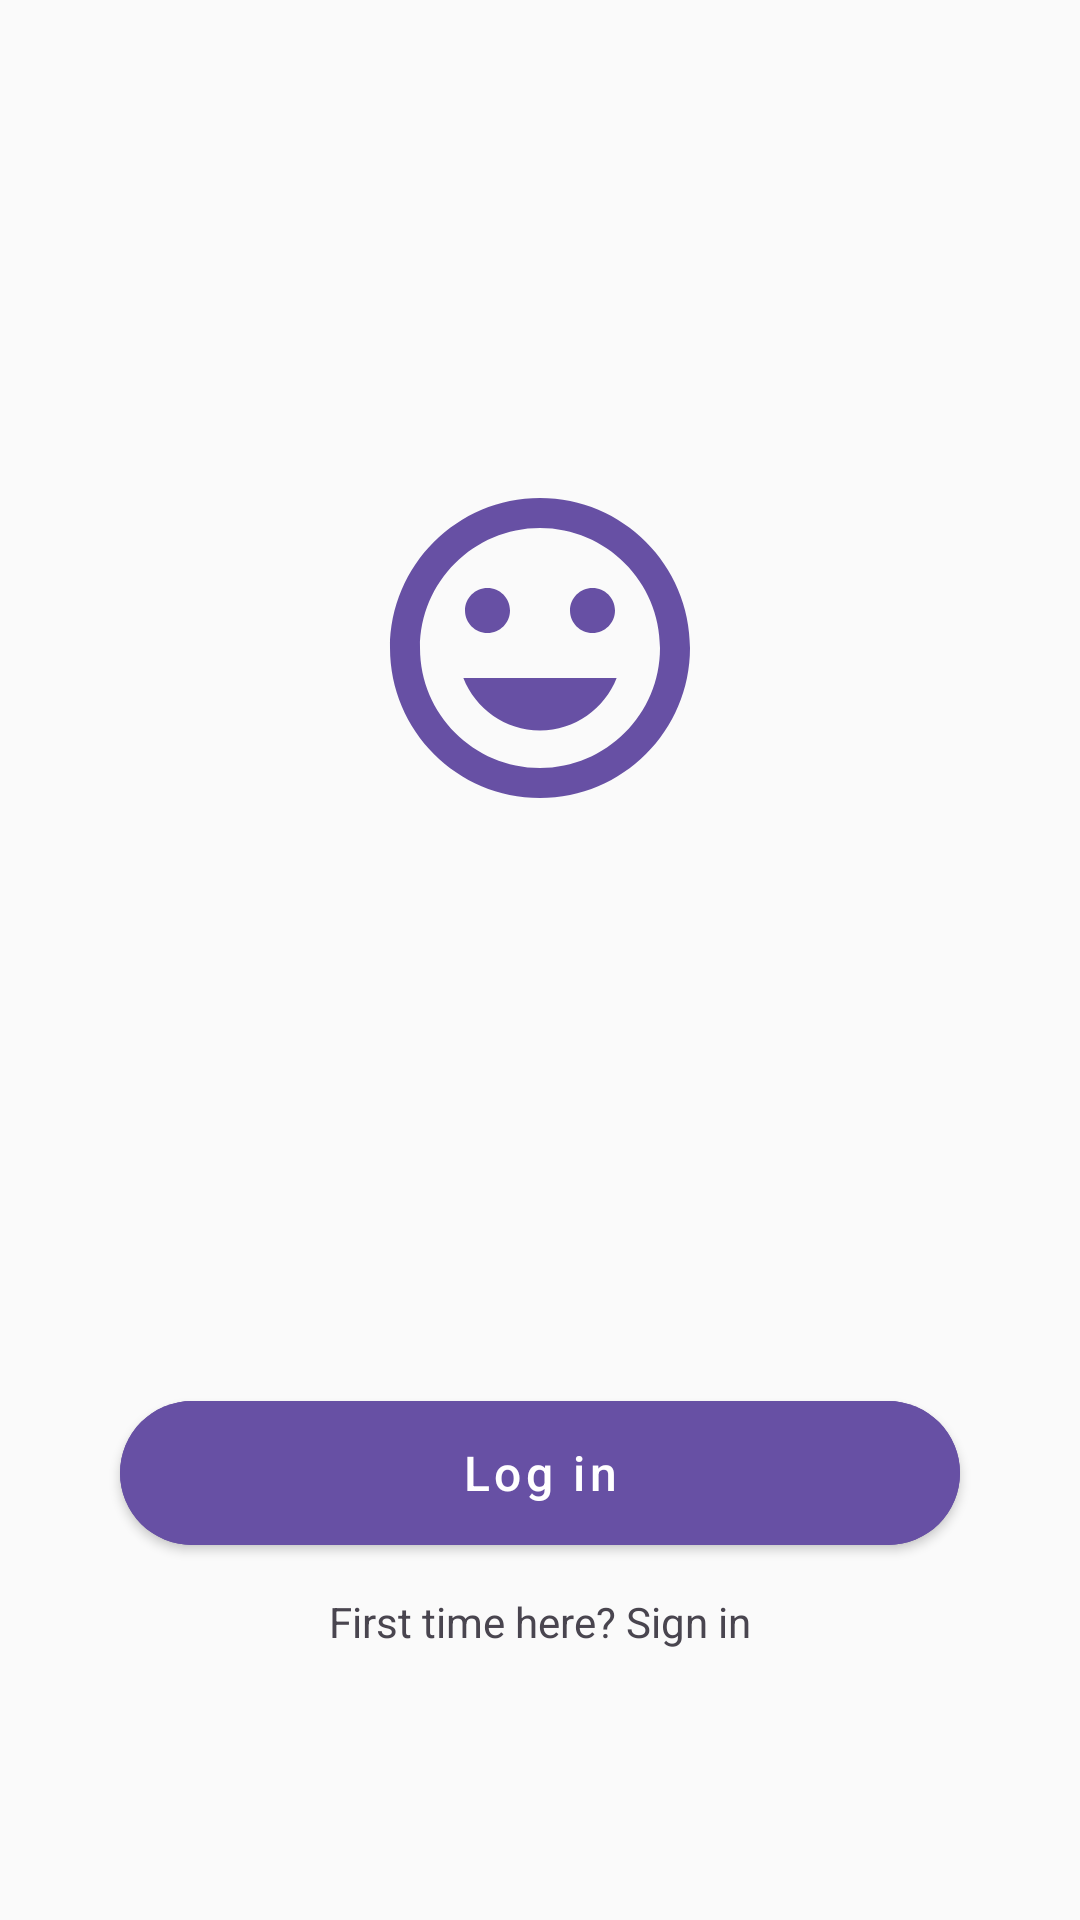

Locate icon controls on the screen. Image size 1080 × 1920, boxes as (x1, y1, x2, y2).
smile: (390, 498, 690, 798)
